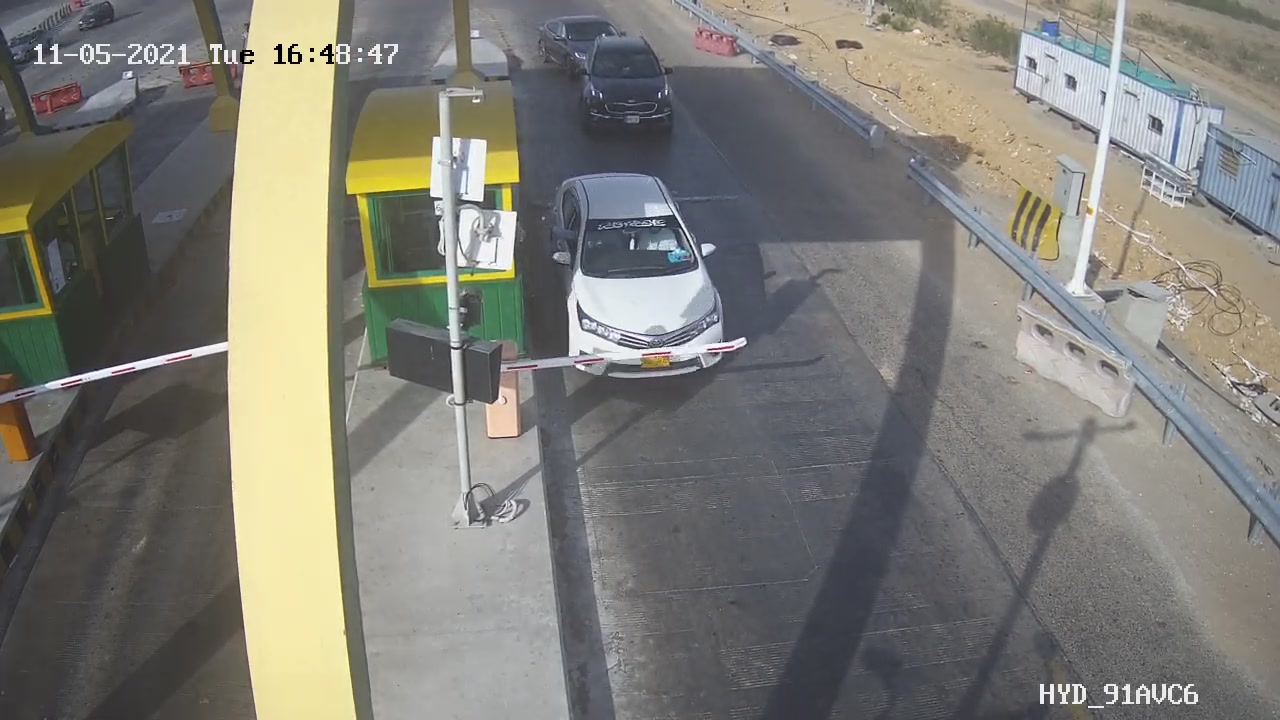F1: (531, 152, 746, 395), (566, 22, 695, 146)
